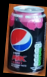pepsi: (9, 5, 44, 73)
